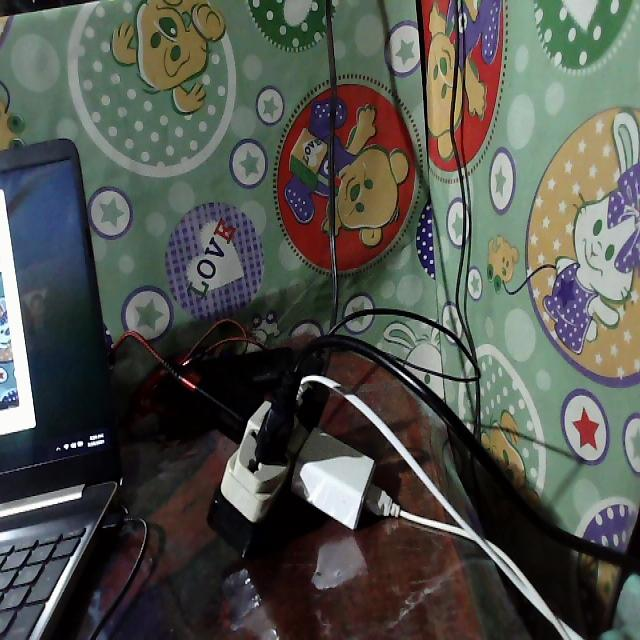-: (193, 357, 377, 555)
